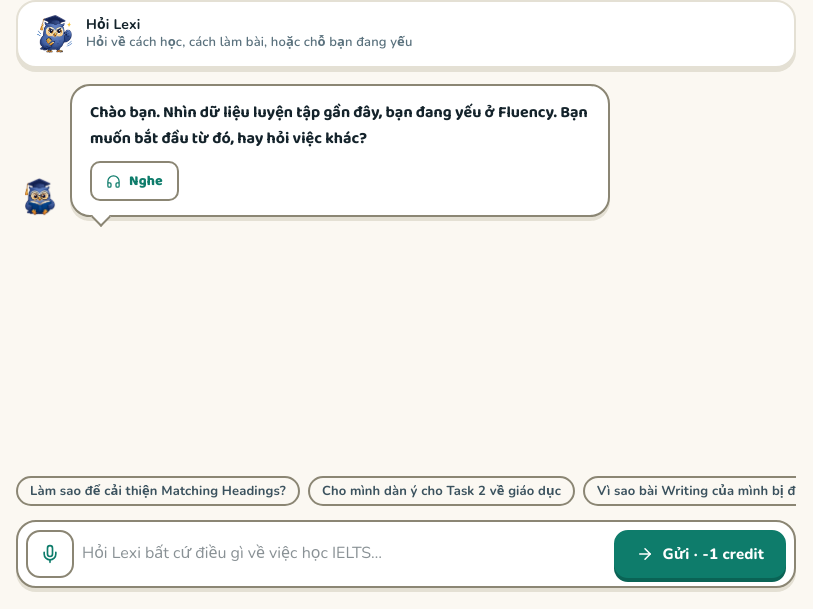
Test: AiChatPage — the voice pair (listen + speak) › appends a transcript to what was already typed rather than replacing it
In the field with placeholder "Hỏi Lexi bất cứ điều gì về việc học IELTS…": {"x": 344, "y": 554} top-left (82, 534), bottom-right (606, 574), type "Giải thích giúp mình"
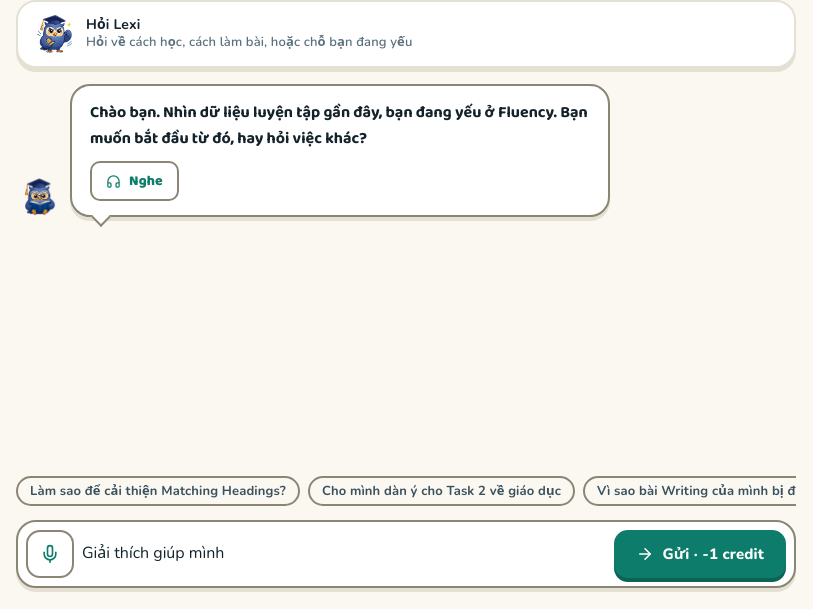
Click the button named "Ghi âm câu hỏi": {"x": 50, "y": 554} top-left (26, 530), bottom-right (74, 578)
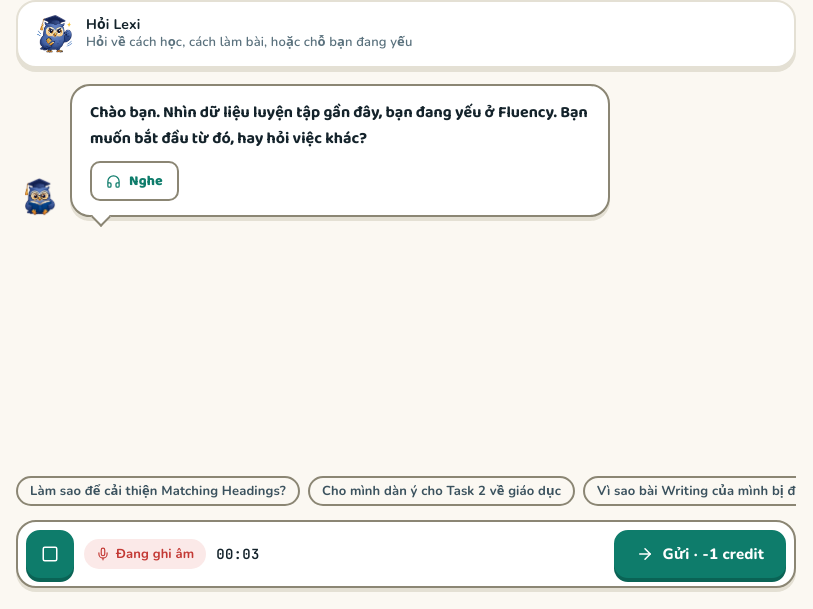
Click the button named "Dừng ghi âm": {"x": 50, "y": 554} top-left (26, 530), bottom-right (74, 578)
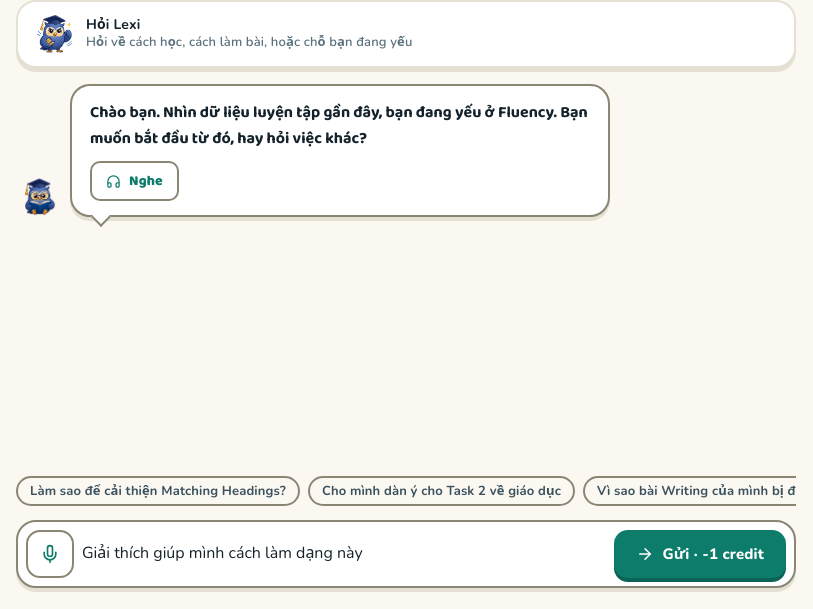
Expected: the field with placeholder "Hỏi Lexi bất cứ điều gì về việc học IELTS…" holds "Giải thích giúp mình cách làm dạng này", top-left (82, 534), bottom-right (606, 574)
